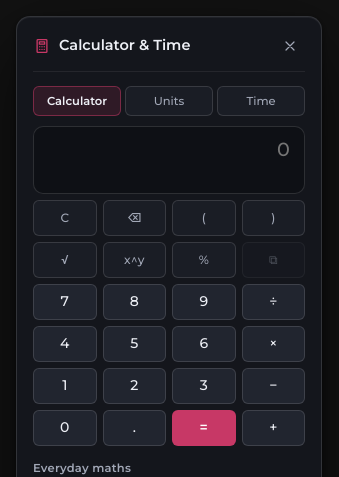
Test: Calc & Time: tabs › switches to Units and shows the Value | From | swap | To row
The width and height of the screenshot is (339, 477).
What coordinates should you click on to do the following:
click the tab with class "ct-tab" showing "Units"
I would click on:
 (169, 101)
Its box is [125,86,213,116].
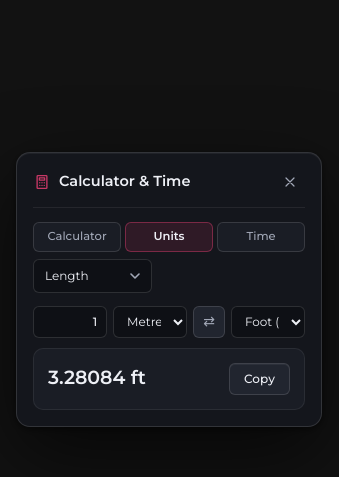
Check: the element with class "ct-convert" is shown, box [33,298,305,338]
Check: the button with class "ct-swap" is shown, box [193,306,225,338]
